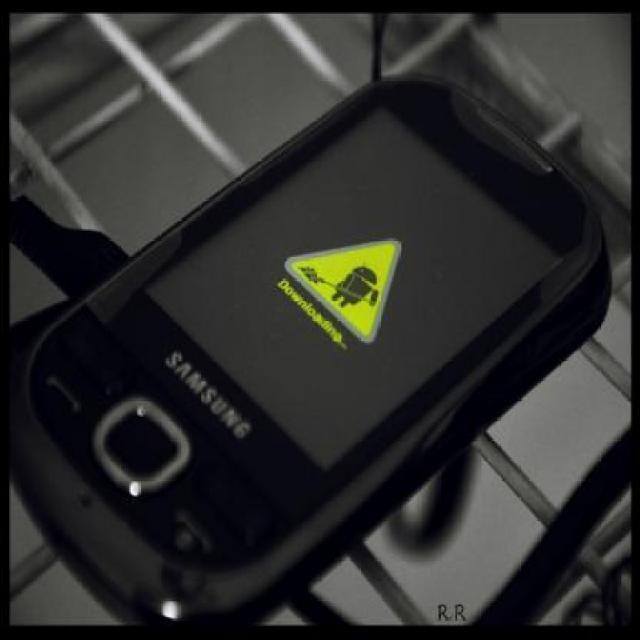phone: (0, 51, 640, 640)
